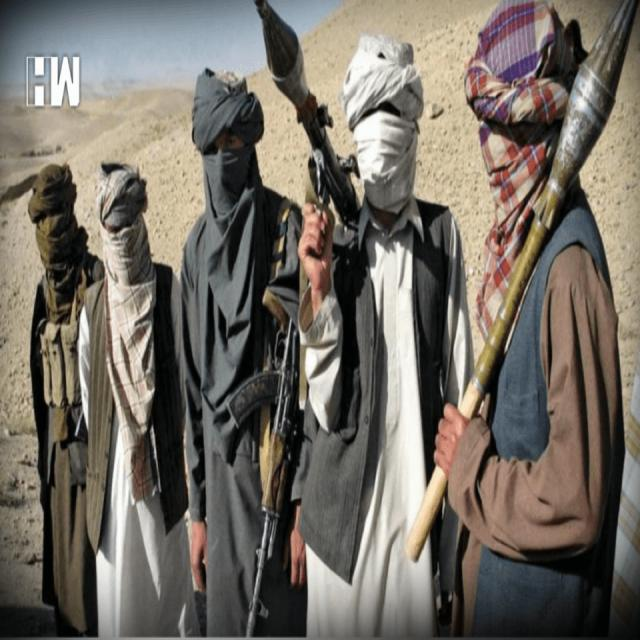Militant: (456, 5, 640, 640), (311, 27, 459, 640), (176, 50, 321, 640), (88, 154, 202, 640), (19, 126, 108, 631)
